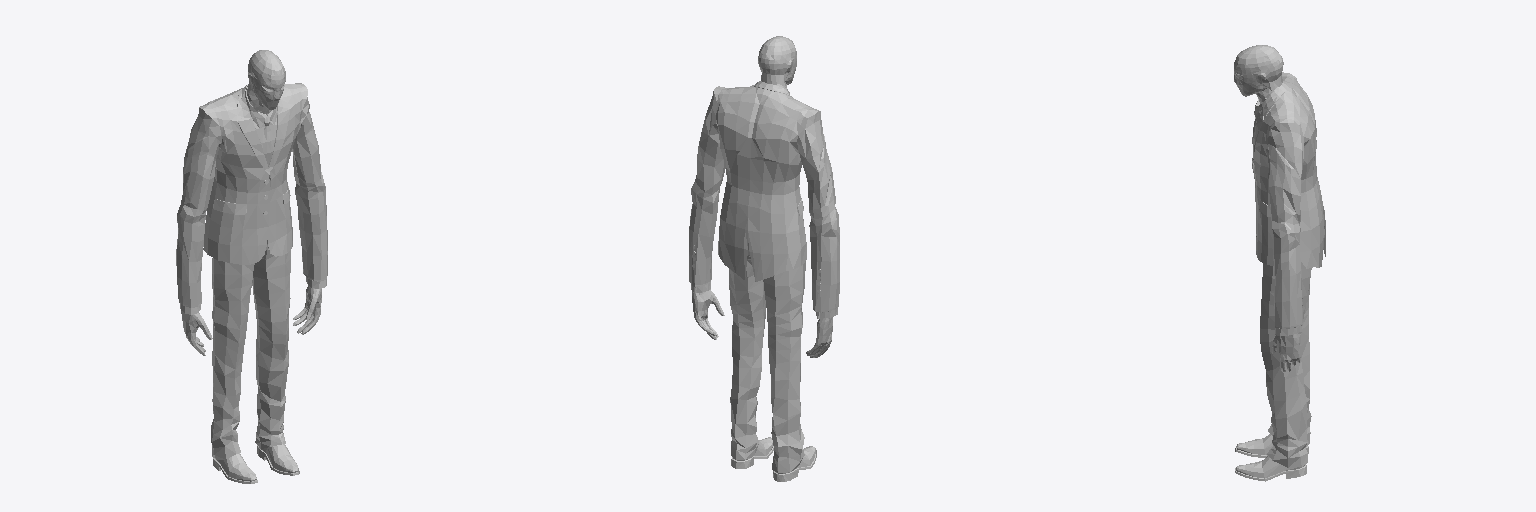
The model's file is slender.obj.
3 renders of one model, left to right at view 1: azimuth 30°, elevation 25°; view 2: azimuth 150°, elevation 25°; view 3: azimuth 270°, elevation 25°, orthographic.
Parts seen in each view (by area): view 1: Slenderman_Model; view 2: Slenderman_Model; view 3: Slenderman_Model.
Part boxes in pixels (bbox=[...]): Slenderman_Model: bbox=[176, 50, 327, 483]; Slenderman_Model: bbox=[689, 36, 839, 481]; Slenderman_Model: bbox=[1234, 45, 1325, 481].
Bounding box in the file's own units: 223 × 606 × 121.